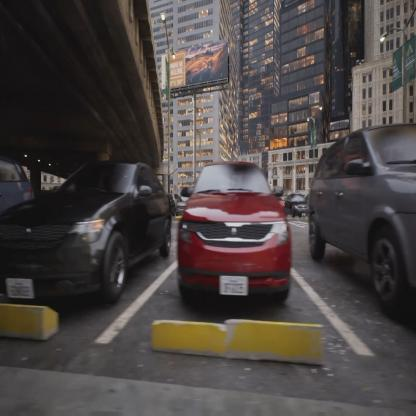License-Plate: (208, 250, 263, 317), (0, 257, 49, 309)
